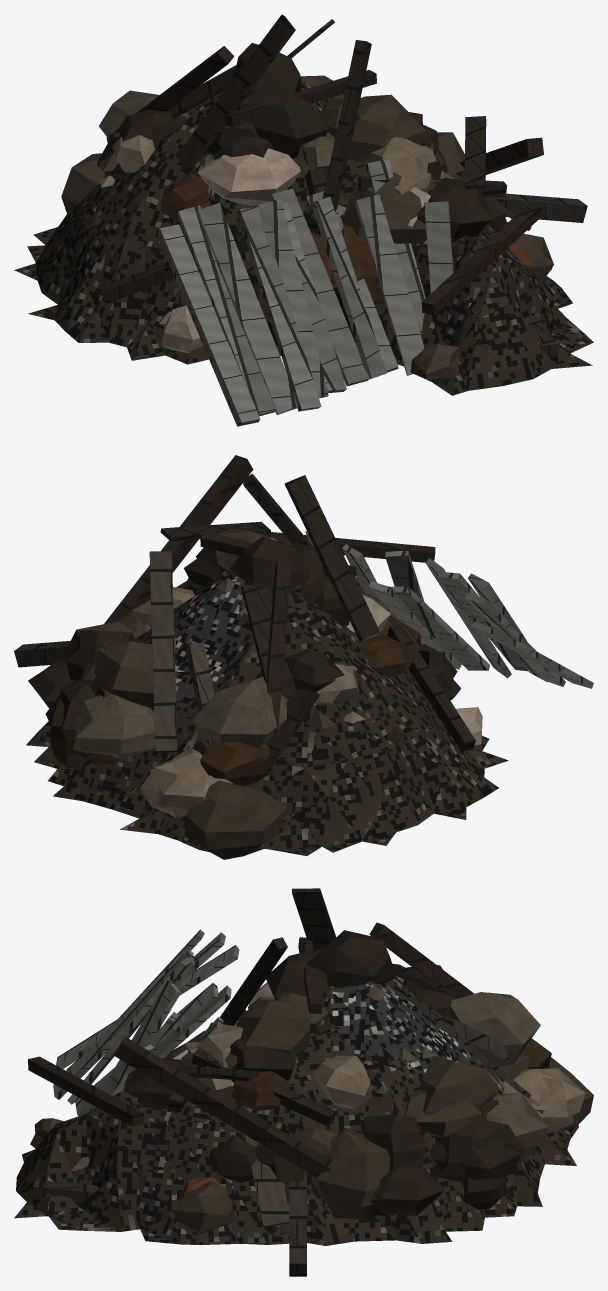
Rendered from AraHut11a.glb.
3 views of the same model, one above another, from view 1: azimuth 30°, elevation 25°; view 2: azimuth 150°, elevation 25°; view 3: azimuth 270°, elevation 25° (orthographic). The views are drawn at different scales.
Parts seen in each view (by area): view 1: AraHut11a_bed; view 2: AraHut11a_bed; view 3: AraHut11a_bed.
Boxes of the visible parts, bbox=[...] form: AraHut11a_bed: bbox=[14, 14, 593, 426]; AraHut11a_bed: bbox=[14, 455, 593, 859]; AraHut11a_bed: bbox=[14, 888, 593, 1276].
Bounding box in the file's own units: 6.41 × 3.36 × 6.6.
17 materials, 17 textured.
